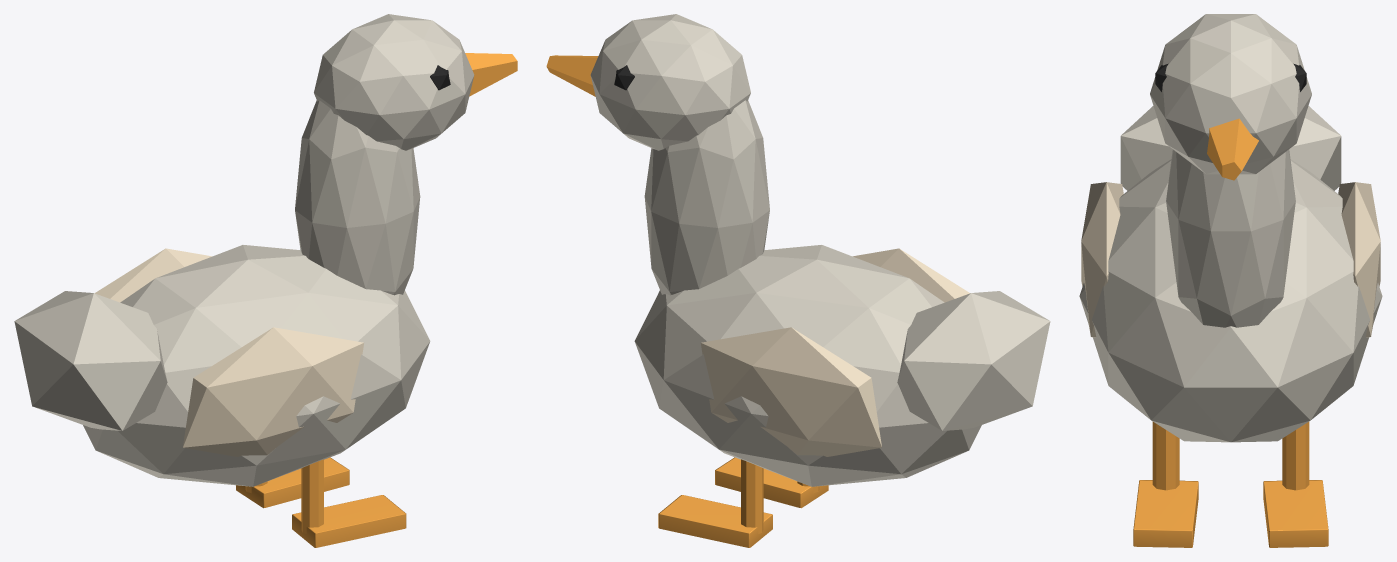
The model's file is goose.glb.
3 renders of one model, left to right at view 1: azimuth 30°, elevation 25°; view 2: azimuth 150°, elevation 25°; view 3: azimuth 270°, elevation 25°, orthographic. The views are drawn at different scales.
Parts seen in each view (by area): view 1: large white goose body, tall curved neck, raised tail feathers, folded left wing, round goose head, webbed foot, folded right wing, webbed foot.001, orange goose leg, flat orange beak; view 2: large white goose body, tall curved neck, raised tail feathers, folded right wing, round goose head, webbed foot.001, folded left wing, webbed foot, orange goose leg.001, flat orange beak; view 3: large white goose body, tall curved neck, round goose head, raised tail feathers, webbed foot, webbed foot.001, folded left wing, folded right wing, flat orange beak, orange goose leg, orange goose leg.001.
Part boxes in pixels (bbox=[...]): large white goose body: bbox=[83, 245, 430, 486]; tall curved neck: bbox=[295, 100, 420, 295]; raised tail feathers: bbox=[14, 291, 167, 430]; folded left wing: bbox=[183, 327, 363, 456]; round goose head: bbox=[314, 14, 474, 150]; webbed foot: bbox=[292, 495, 406, 547]; folded right wing: bbox=[95, 248, 211, 302]; webbed foot.001: bbox=[236, 457, 349, 508]; orange goose leg: bbox=[301, 459, 323, 533]; flat orange beak: bbox=[465, 53, 517, 96]; large white goose body: bbox=[634, 245, 981, 486]; tall curved neck: bbox=[644, 100, 769, 295]; raised tail feathers: bbox=[897, 291, 1050, 430]; folded right wing: bbox=[700, 327, 881, 456]; round goose head: bbox=[590, 14, 750, 150]; webbed foot.001: bbox=[658, 495, 772, 547]; folded left wing: bbox=[853, 248, 969, 302]; webbed foot: bbox=[715, 457, 828, 508]; orange goose leg.001: bbox=[741, 459, 763, 533]; flat orange beak: bbox=[546, 55, 598, 96]; large white goose body: bbox=[1079, 159, 1382, 442]; tall curved neck: bbox=[1166, 149, 1295, 327]; round goose head: bbox=[1150, 14, 1311, 174]; raised tail feathers: bbox=[1120, 106, 1341, 190]; webbed foot: bbox=[1133, 480, 1198, 547]; webbed foot.001: bbox=[1263, 480, 1328, 547]; folded left wing: bbox=[1081, 182, 1123, 337]; folded right wing: bbox=[1338, 182, 1380, 337]; flat orange beak: bbox=[1207, 118, 1258, 180]; orange goose leg: bbox=[1152, 421, 1179, 490]; orange goose leg.001: bbox=[1282, 421, 1309, 490].
Size of the model in its own units: 1.19 by 1.11 by 0.56.
